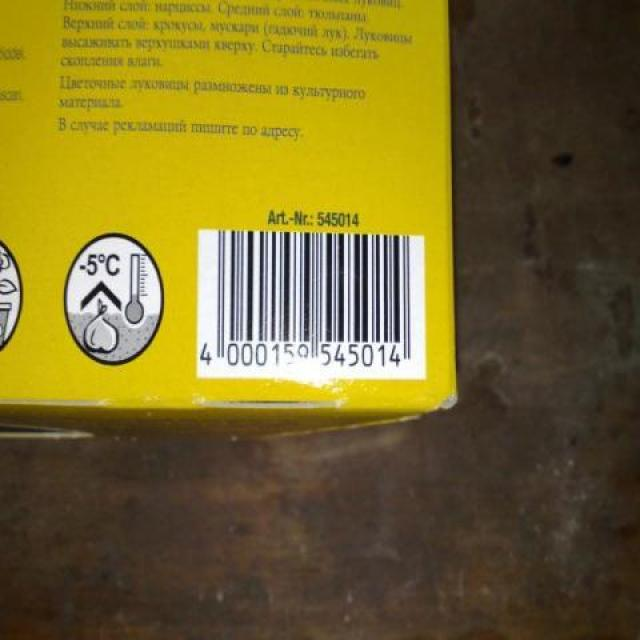Barcode: (187, 223, 434, 389)
